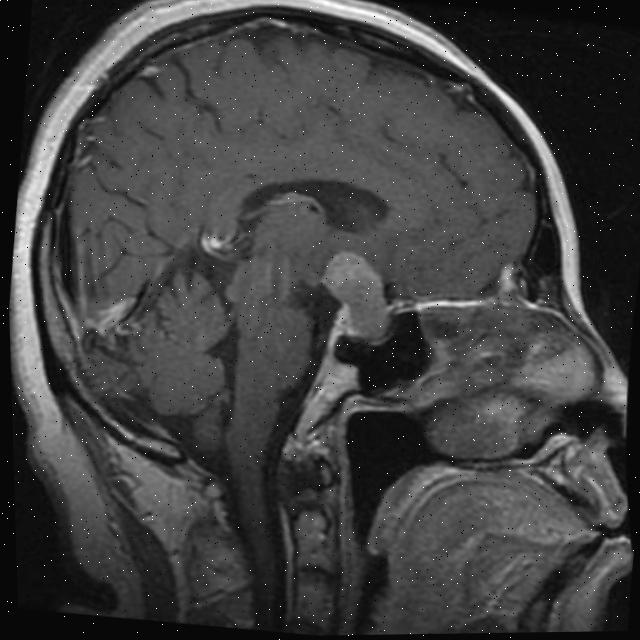Pituitary: (312, 248, 398, 348)
